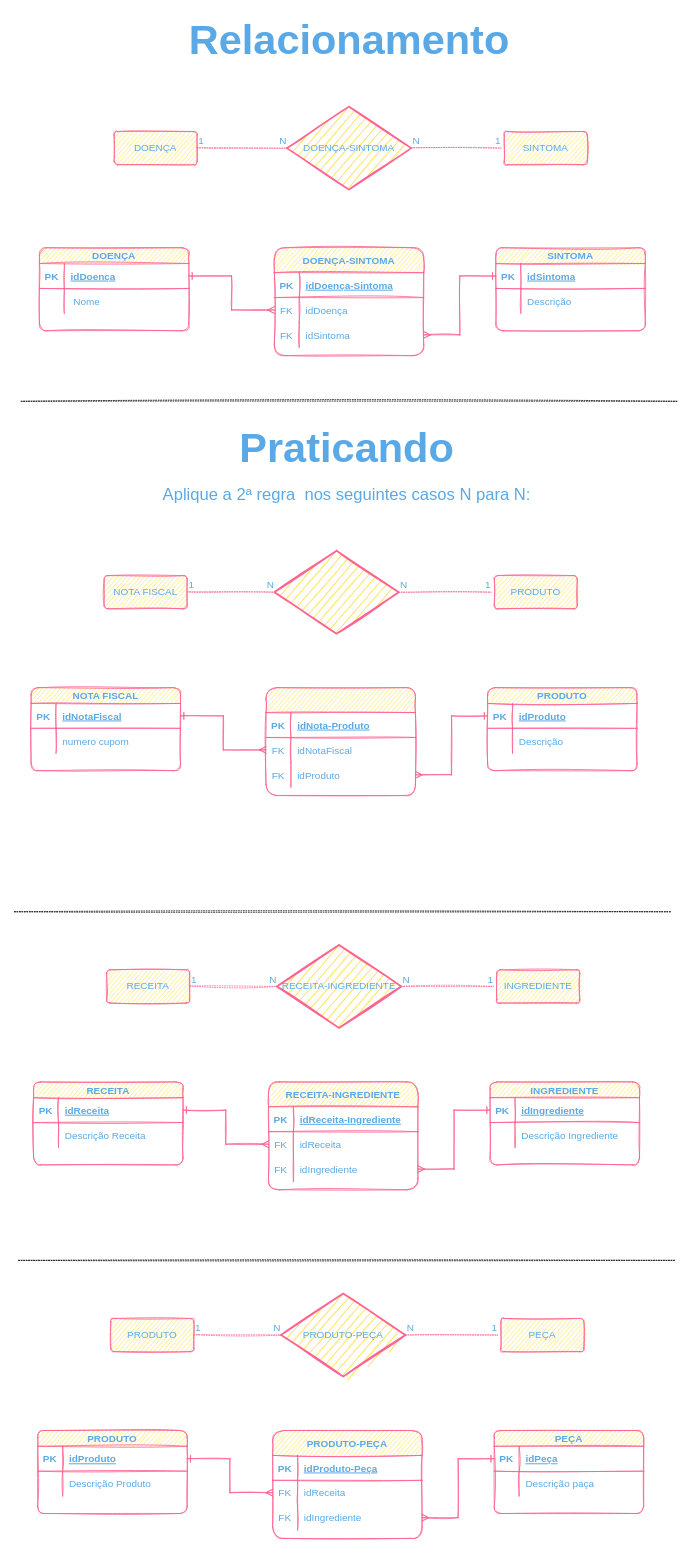
This 692x1553 diagram has some shape labels left out. Each missing label, with the box of its shape:
PRODUTO-NOTA: (273, 549, 399, 634)
PRODUTO-SINTOMA: (265, 687, 415, 796)
